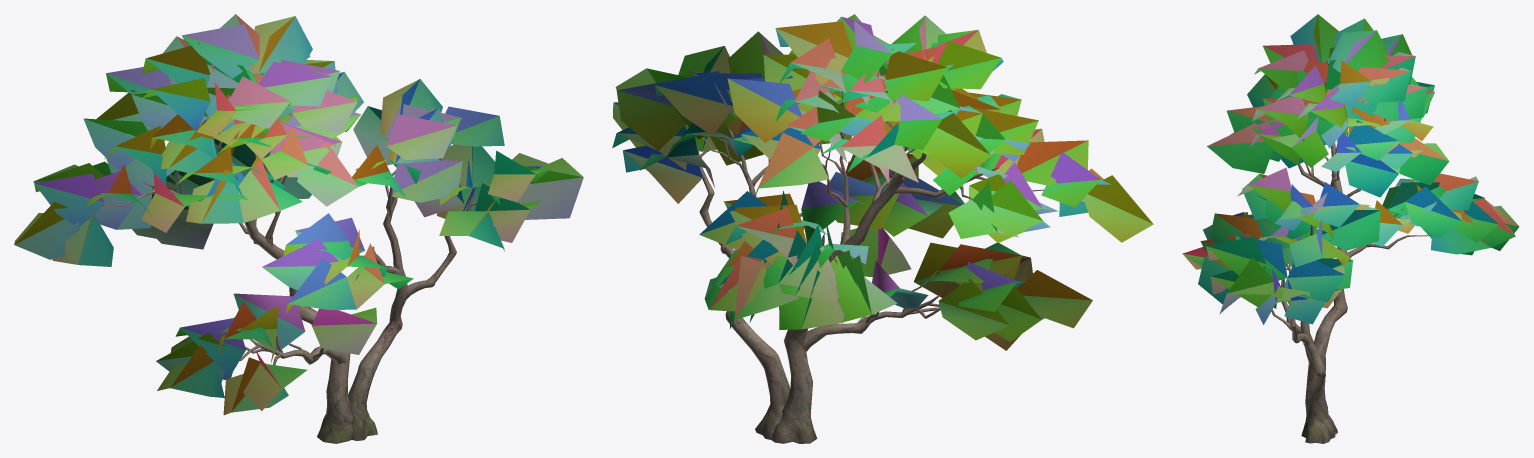
Rendered from Homeworld_Exterior_Cyg_Plant_Tree_Qiaoying_03_Lod0.fbx.
3 renders of one model, left to right at view 1: azimuth 30°, elevation 25°; view 2: azimuth 150°, elevation 25°; view 3: azimuth 270°, elevation 25°, orthographic. The views are drawn at different scales.
Visible parts, largest first — view 1: Area_Cyg_Tree_Common_Fs_01_Leaf_Lod0, Area_Cyg_Tree_Common_Fs_01_Bark_Lod0; view 2: Area_Cyg_Tree_Common_Fs_01_Leaf_Lod0, Area_Cyg_Tree_Common_Fs_01_Bark_Lod0; view 3: Area_Cyg_Tree_Common_Fs_01_Leaf_Lod0, Area_Cyg_Tree_Common_Fs_01_Bark_Lod0.
Boxes of the visible parts, x1=… form: Area_Cyg_Tree_Common_Fs_01_Leaf_Lod0: x1=14, y1=14, x2=583, y2=415; Area_Cyg_Tree_Common_Fs_01_Bark_Lod0: x1=102, y1=132, x2=477, y2=443; Area_Cyg_Tree_Common_Fs_01_Leaf_Lod0: x1=612, y1=14, x2=1153, y2=350; Area_Cyg_Tree_Common_Fs_01_Bark_Lod0: x1=696, y1=91, x2=1043, y2=443; Area_Cyg_Tree_Common_Fs_01_Leaf_Lod0: x1=1182, y1=14, x2=1519, y2=324; Area_Cyg_Tree_Common_Fs_01_Bark_Lod0: x1=1249, y1=128, x2=1428, y2=443.
Bounding box in the file's own units: 14.04 × 10.69 × 9.19.
